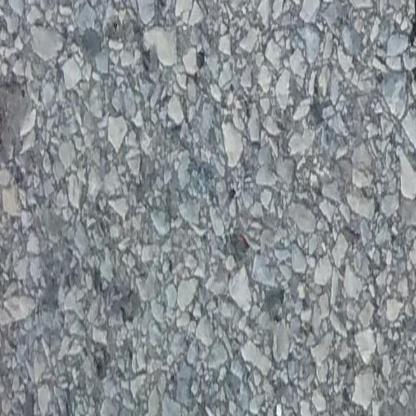Cracks: (405, 0, 416, 128)
